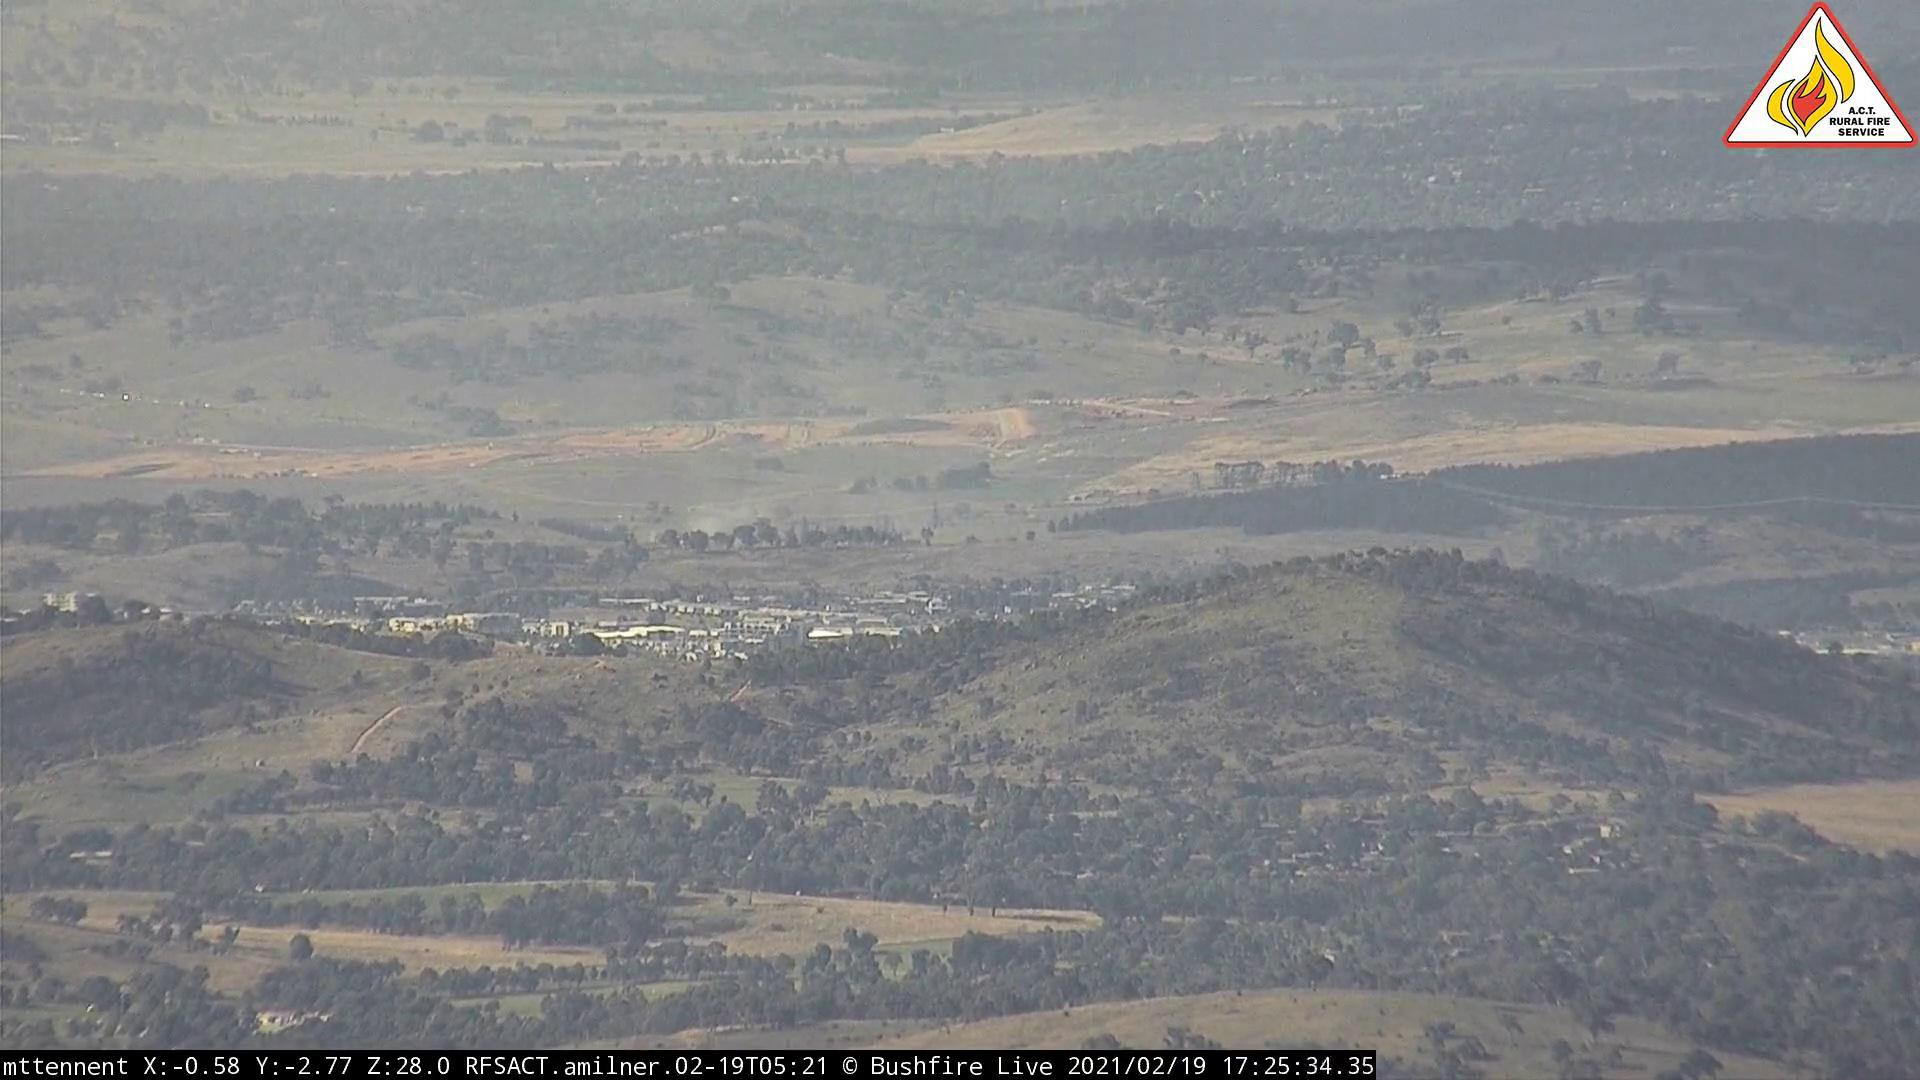instance_salient_object: (645, 447, 851, 542)
